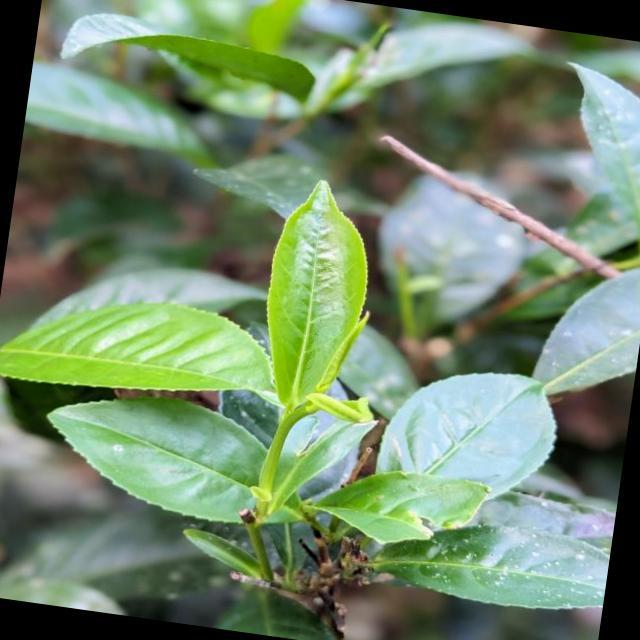Stem: (275, 416, 296, 438)
